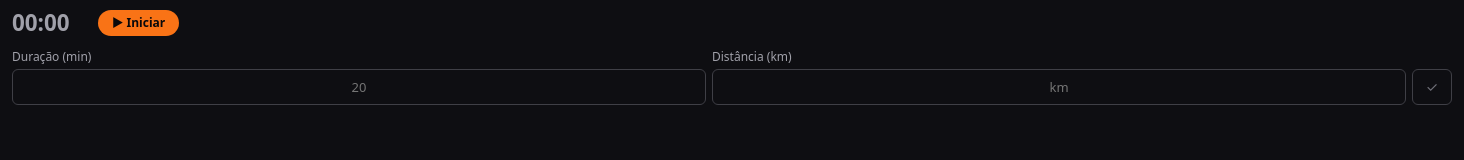
Test case: CardioRow › mostra o ritmo médio quando há duração e distância
The image size is (1464, 160).
Check: the text "Ritmo médio" is not shown
In the field labelled "Duração (min)": (359, 87) [12,69,706,105], type "30"
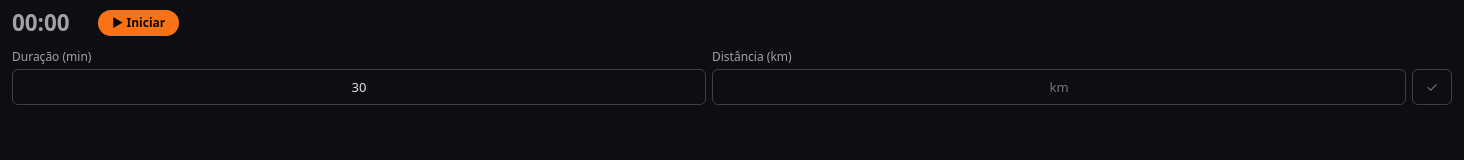
In the field labelled "Distância (km)": (1059, 87) [712,69,1406,105], type "5"
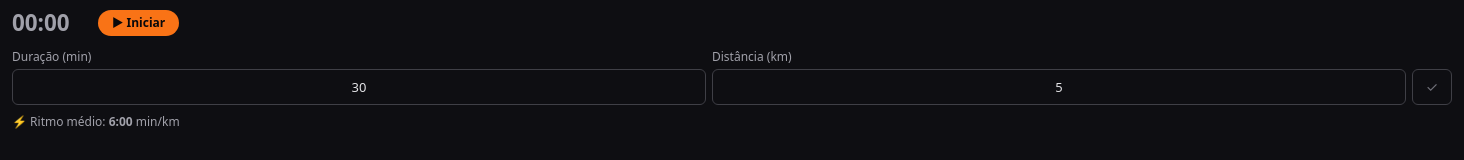
Check: the text "⚡ Ritmo médio: 6:00 min/km" is shown, box [12,113,180,130]
